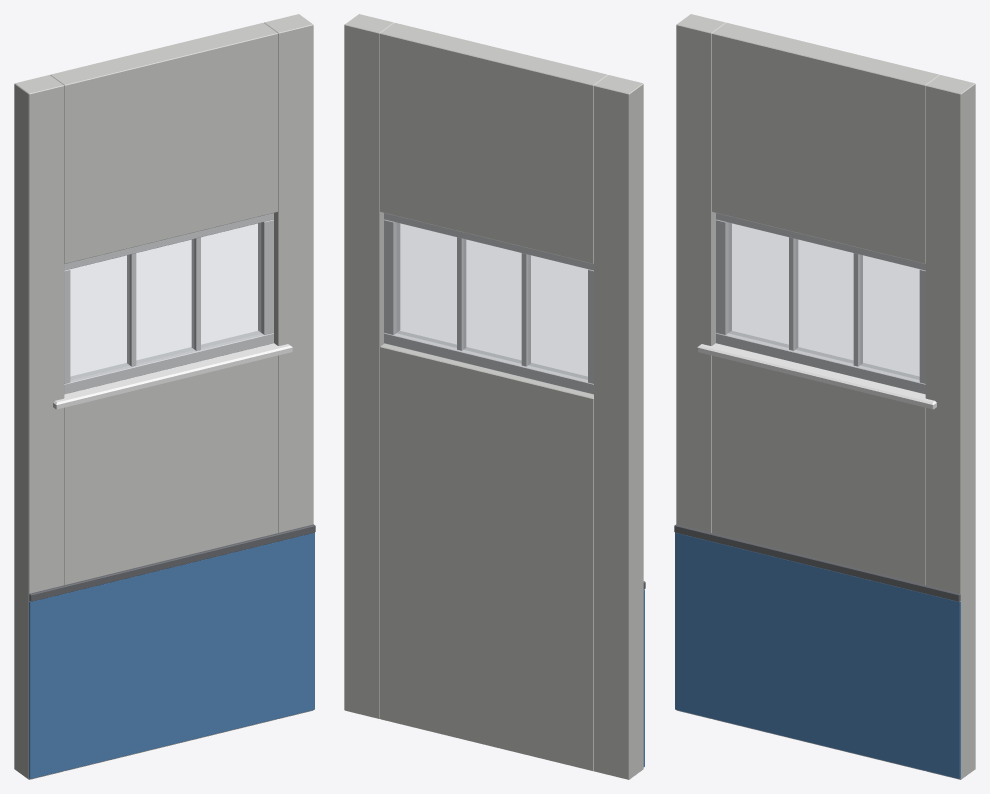
The model's file is community-sports-hall-and-changing-rooms-hall-wall-mod-275ea046.glb.
The picture shows the model from 3 angles, left to right: view 1: azimuth 30°, elevation 25°; view 2: azimuth 150°, elevation 25°; view 3: azimuth 330°, elevation 25°; orthographic projection.
Visible parts, largest first — view 1: hall-wall-module; view 2: hall-wall-module; view 3: hall-wall-module.
Part boxes in pixels (x1=…): hall-wall-module: x1=14, y1=14, x2=315, y2=779; hall-wall-module: x1=344, y1=14, x2=645, y2=779; hall-wall-module: x1=674, y1=14, x2=975, y2=779.
Size of the model in its own units: 2 by 4.6 by 0.2201.
